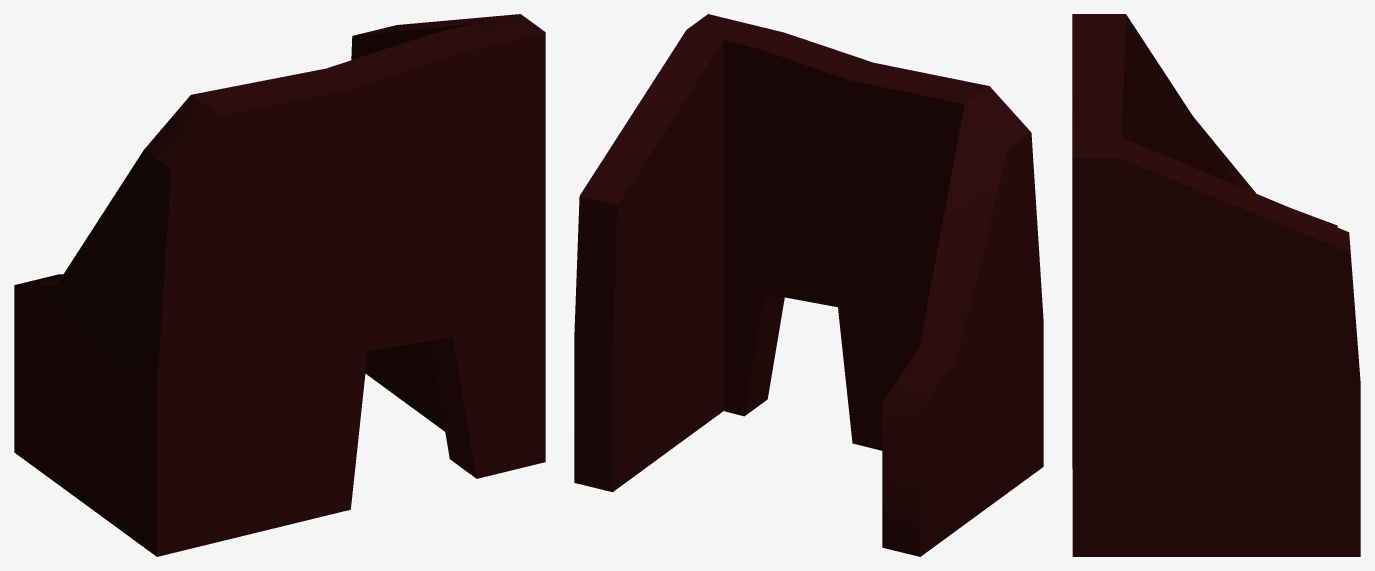
The model's file is UCX_Castle_Entrance_B.fbx.
The picture shows the model from 3 angles, left to right: view 1: azimuth 30°, elevation 25°; view 2: azimuth 150°, elevation 25°; view 3: azimuth 270°, elevation 25°; orthographic projection. The views are drawn at different scales.
Parts seen in each view (by area): view 1: UCX_Castle_Entrance_B; view 2: UCX_Castle_Entrance_B; view 3: UCX_Castle_Entrance_B.
Part boxes in pixels (<box>): UCX_Castle_Entrance_B: <box>14,14,545,556</box>; UCX_Castle_Entrance_B: <box>574,14,1043,556</box>; UCX_Castle_Entrance_B: <box>1072,14,1360,556</box>.
Bounding box in the file's own units: 833 × 880 × 576.
